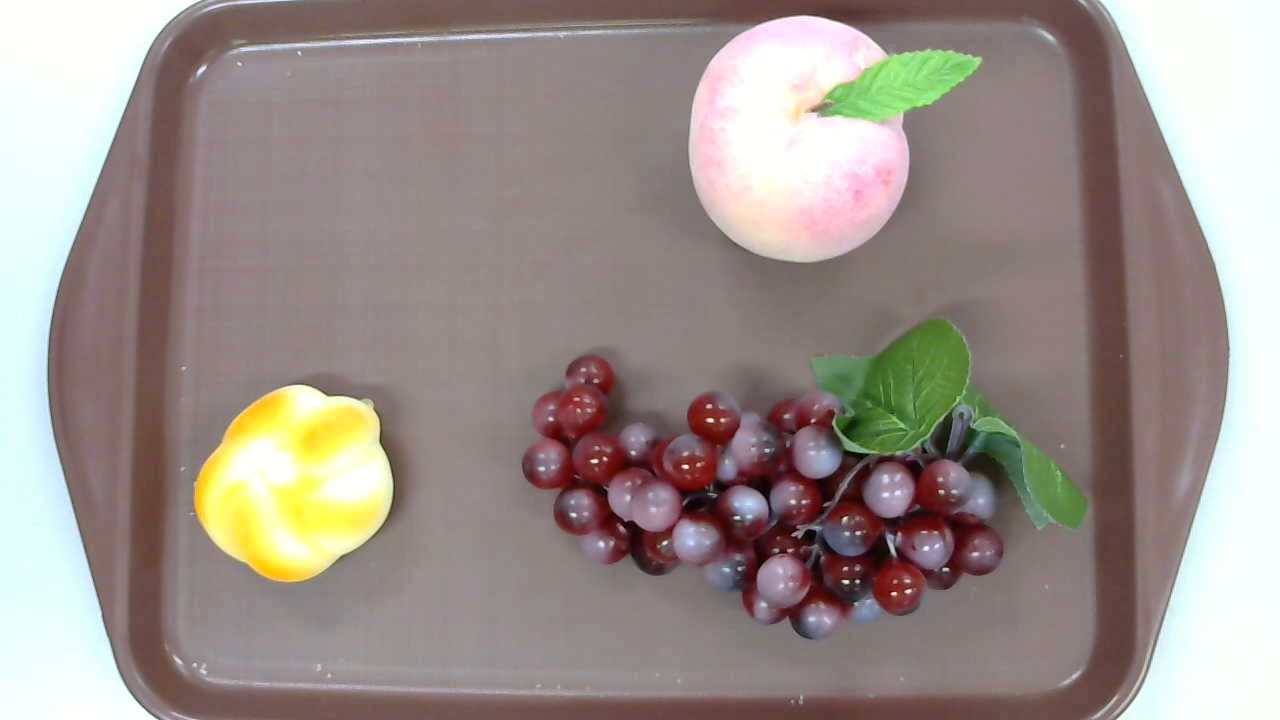grape: (522, 317, 1086, 640)
peaches: (688, 14, 984, 266)
twist bread: (192, 384, 393, 582)
